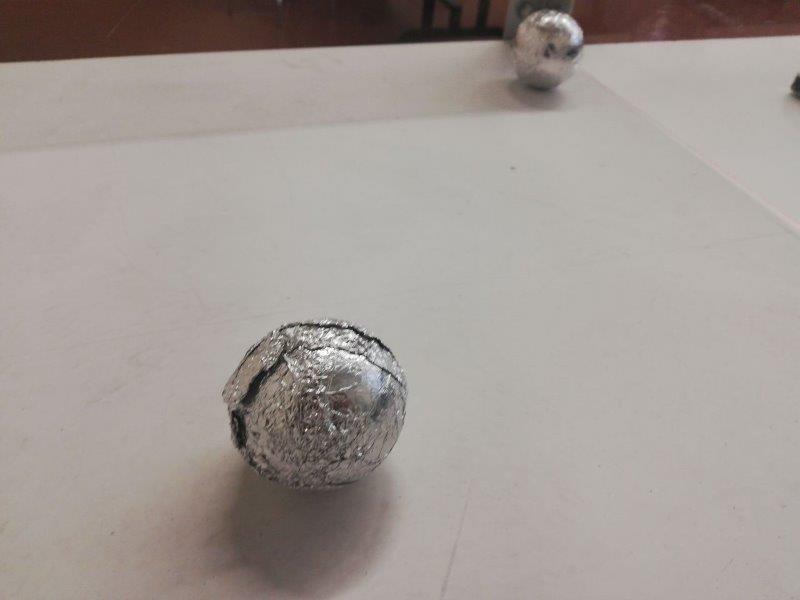bianca: (223, 318, 408, 487), (511, 9, 585, 89)
